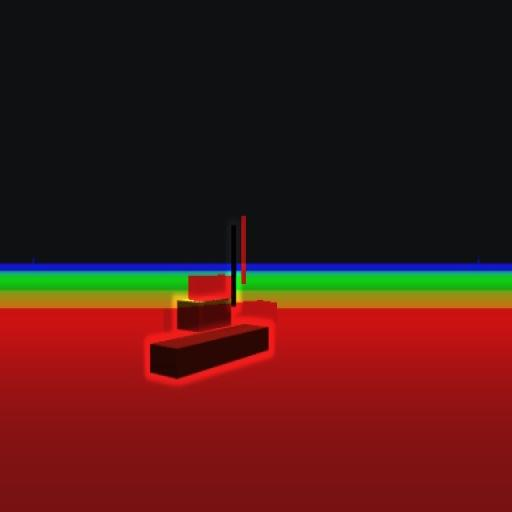fishing_boat: (148, 249, 270, 380)
